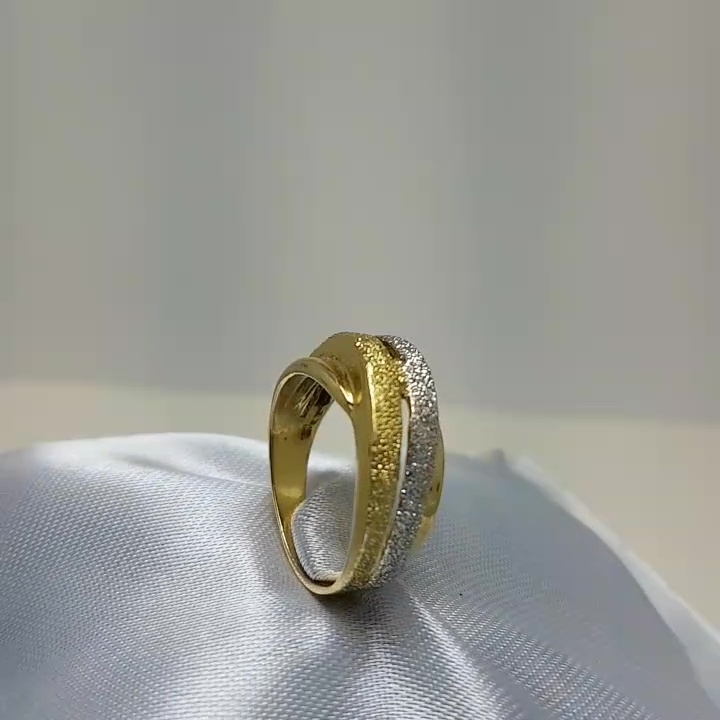Ring 5: (251, 315, 463, 619)
